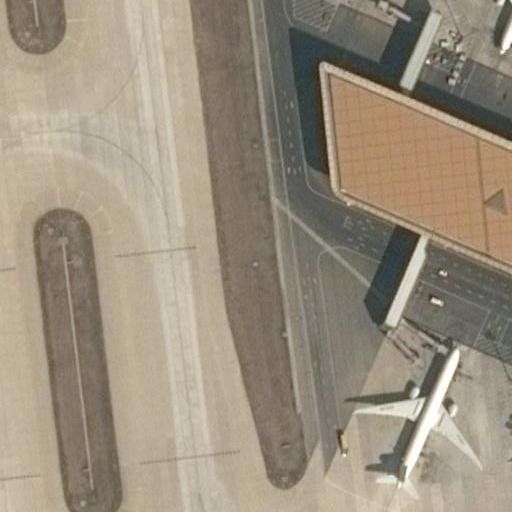Aircraft: (351, 326, 480, 493), (465, 0, 512, 46)
